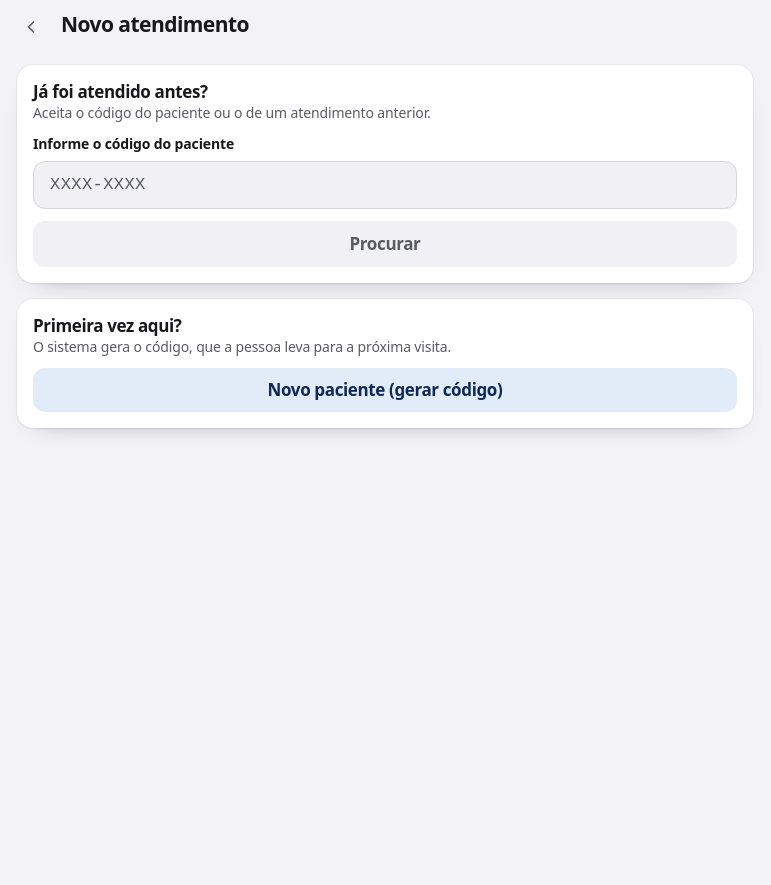
Novo atendimento › deixa trocar de paciente depois de escolher
Click the button "Novo paciente (gerar código)" at (385, 390), box [33,368,737,412]
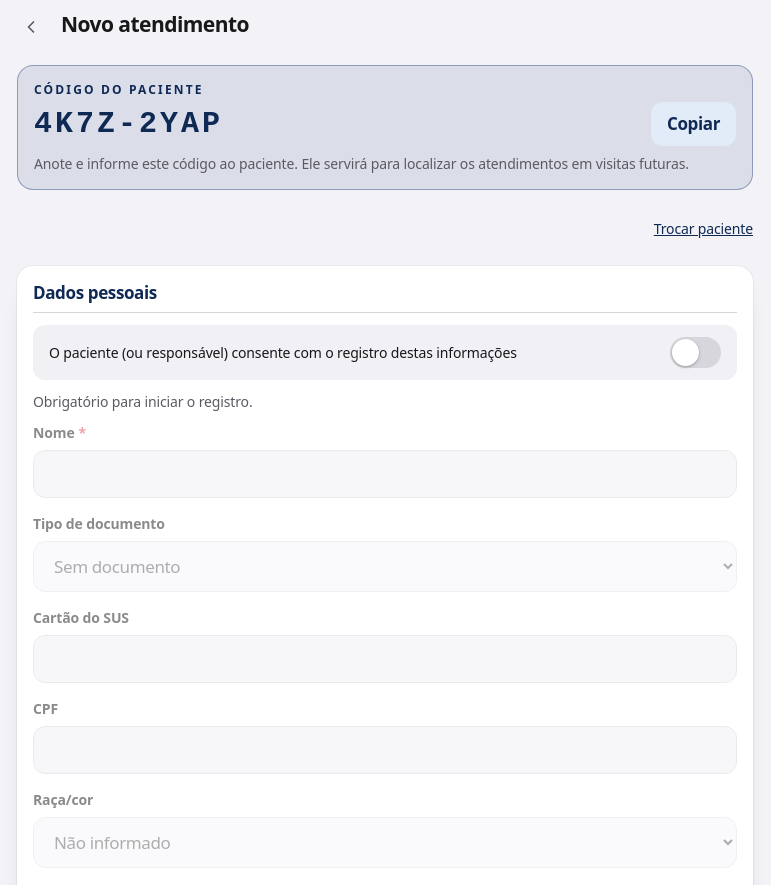
Click the button "Trocar paciente" at (703, 228), box [654,206,753,250]
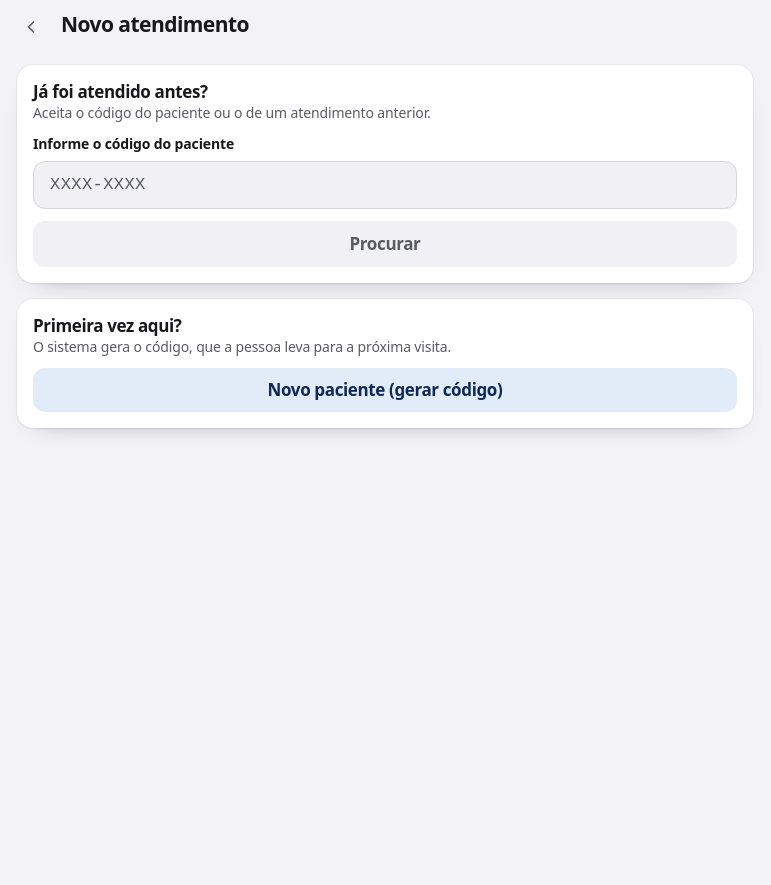
Expected: the button "Novo paciente (gerar código)" is shown, [33,368,737,412]
